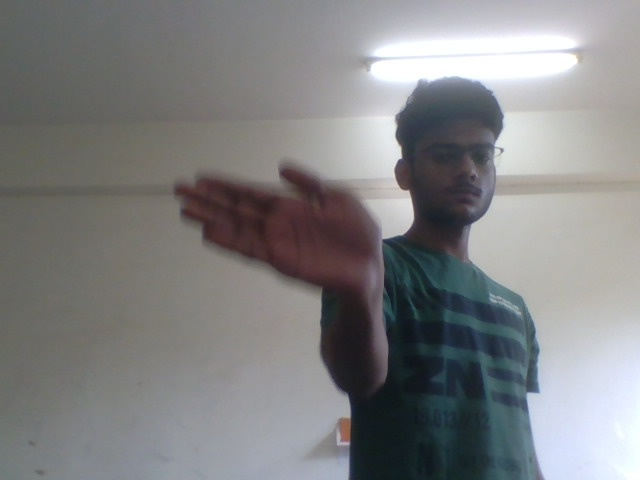Right: (161, 150, 396, 317)
